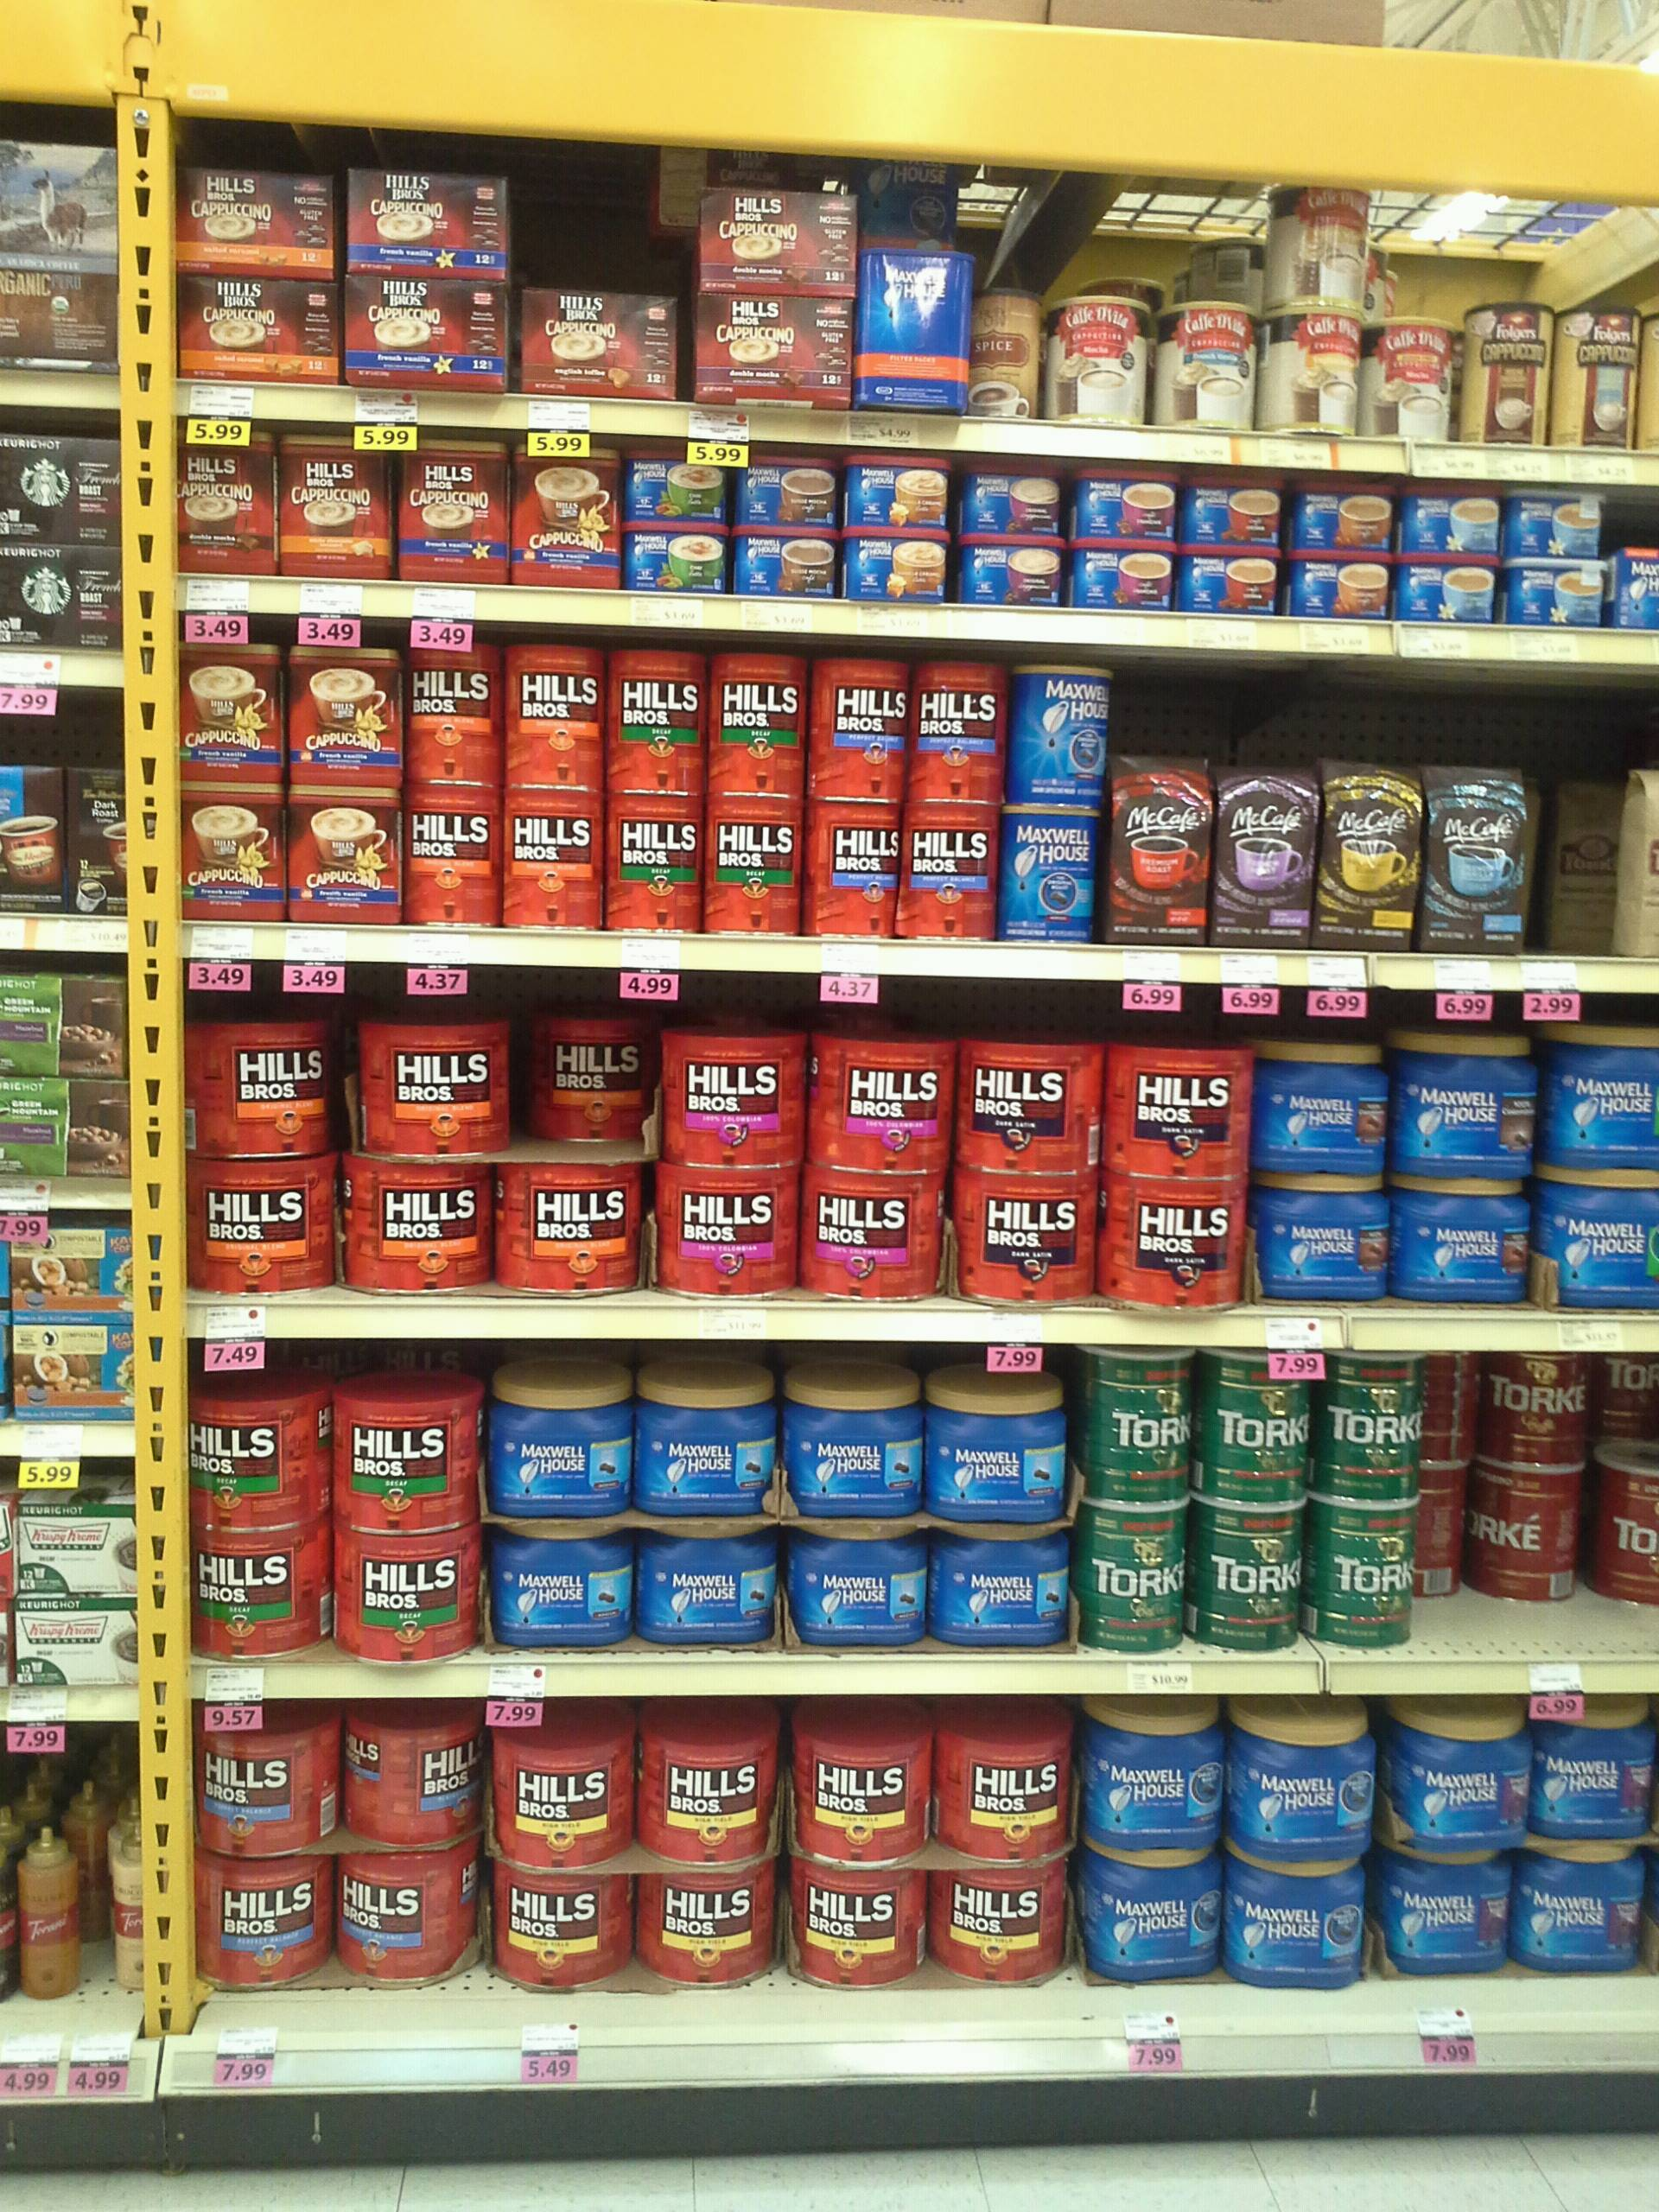Misplacement: (354, 1012, 657, 1158)
